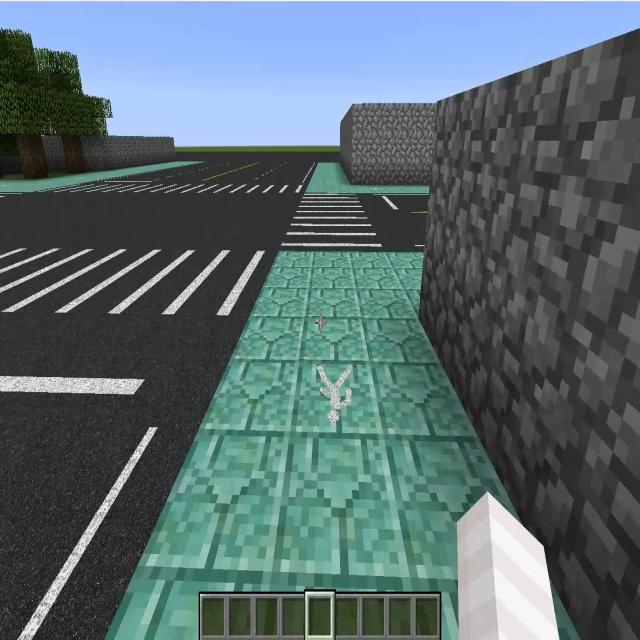crosswalk: (0, 244, 278, 319), (281, 193, 385, 251), (38, 181, 308, 197)
road: (0, 319, 247, 639), (0, 193, 300, 244), (130, 154, 342, 178), (360, 196, 427, 250)
sidewalk: (107, 253, 522, 639), (0, 161, 199, 190), (306, 162, 430, 192), (552, 586, 580, 639)
